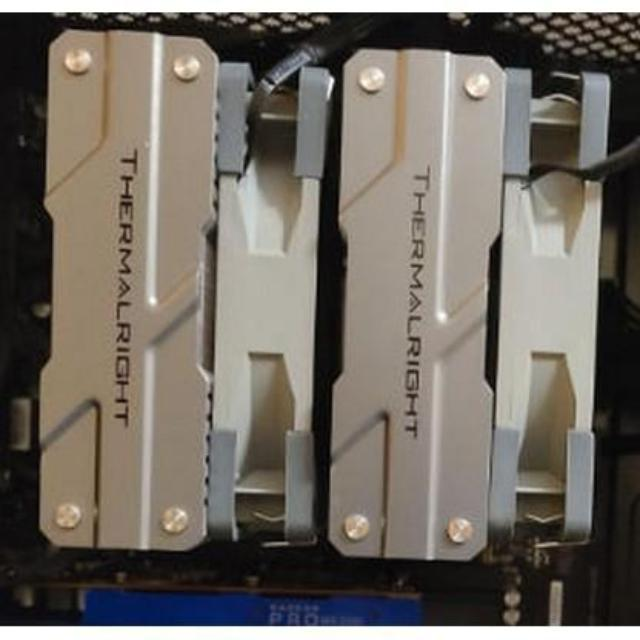CPU_Fan: (29, 16, 606, 584)
